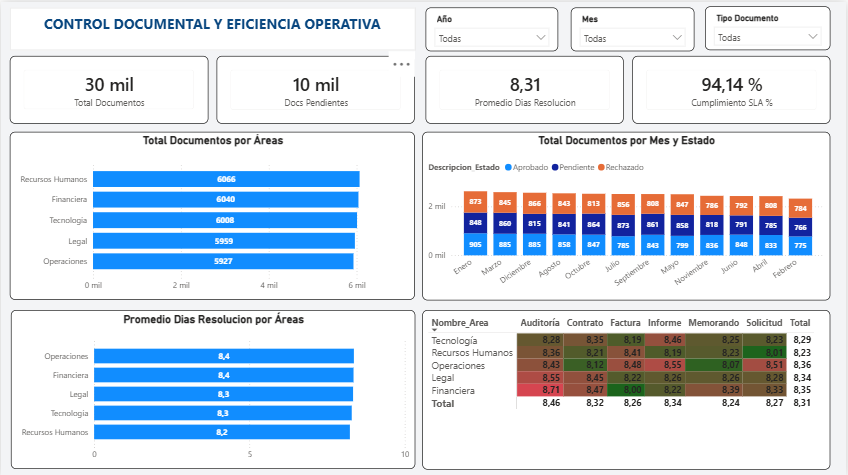

What the dashboard file says about the page in this screenshot:
{"tool":"powerbi","page":{"name":"Dashboard","canvas":[1280,720],"ordinal":0},"visuals":[{"type":"slicer","fields":{"Values":["Dim_Tiempo.Año"]},"box":[642.5,7.5,201.2,66.2],"z":0},{"type":"slicer","fields":{"Values":["Dim_Tiempo.Nombre_Mes"]},"box":[862.5,7.5,187.5,66.2],"z":1000},{"type":"slicer","fields":{"Values":["Movimientos_Documentos.Tipo_Documento"]},"box":[1066.2,6.2,190,66.2],"z":2000},{"type":"cardVisual","fields":{"Data":["_Medidas.Total Documentos"]},"box":[13.3,82.5,300.6,102.9],"z":3000},{"type":"cardVisual","fields":{"Data":["_Medidas.Docs Pendientes"]},"box":[326.9,82,300,103],"z":4000},{"type":"cardVisual","fields":{"Data":["_Medidas.Promedio Dias Resolucion"]},"box":[643,82,300,103],"z":5000},{"type":"cardVisual","fields":{"Data":["_Medidas.Cumplimiento SLA %"]},"box":[956.7,82,300,103],"z":6000},{"type":"barChart","title":"Total Documentos por Áreas","fields":{"Category":["Dim_Areas.Nombre_Area"],"Y":["_Medidas.Total Documentos"]},"box":[13.3,196.6,614.1,254.6],"z":7000},{"type":"columnChart","title":"Total Documentos por  Mes y Estado","fields":{"Category":["Dim_Tiempo.Nombre_Mes"],"Series":["Dim_Estados.Descripcion_Estado"],"Y":["_Medidas.Total Documentos"]},"box":[639,197,618,255],"z":8000},{"type":"barChart","title":"Promedio Dias Resolucion por Áreas","fields":{"Category":["Dim_Areas.Nombre_Area"],"Y":["_Medidas.Promedio Dias Resolucion"]},"box":[14.2,467.3,612.7,241.2],"z":9000},{"type":"pivotTable","fields":{"Columns":["Movimientos_Documentos.Tipo_Documento"],"Rows":["Dim_Areas.Nombre_Area"],"Values":["_Medidas.Promedio Dias Resolucion"]},"box":[638.9,466.7,617.8,242.2],"z":10000},{"type":"textbox","box":[13.8,7.5,613.8,65],"z":11000}]}

Visuals, with their boxes in screenshot pixels (x1, y1, x2, y2), scaled from the page's 1280x720 canvas onto the 848x475 screenshot:
slicer - Dim_Tiempo.Año: <region>426, 5, 559, 49</region>
slicer - Dim_Tiempo.Nombre_Mes: <region>571, 5, 696, 49</region>
slicer - Movimientos_Documentos.Tipo_Documento: <region>706, 4, 832, 48</region>
cardVisual - _Medidas.Total Documentos: <region>9, 54, 208, 122</region>
cardVisual - _Medidas.Docs Pendientes: <region>217, 54, 415, 122</region>
cardVisual - _Medidas.Promedio Dias Resolucion: <region>426, 54, 625, 122</region>
cardVisual - _Medidas.Cumplimiento SLA %: <region>634, 54, 833, 122</region>
"Total Documentos por Áreas" barChart: <region>9, 130, 416, 298</region>
"Total Documentos por  Mes y Estado" columnChart: <region>423, 130, 833, 298</region>
"Promedio Dias Resolucion por Áreas" barChart: <region>9, 308, 415, 467</region>
pivotTable - Movimientos_Documentos.Tipo_Documento x Dim_Areas.Nombre_Area: <region>423, 308, 833, 468</region>
textbox: <region>9, 5, 416, 48</region>
